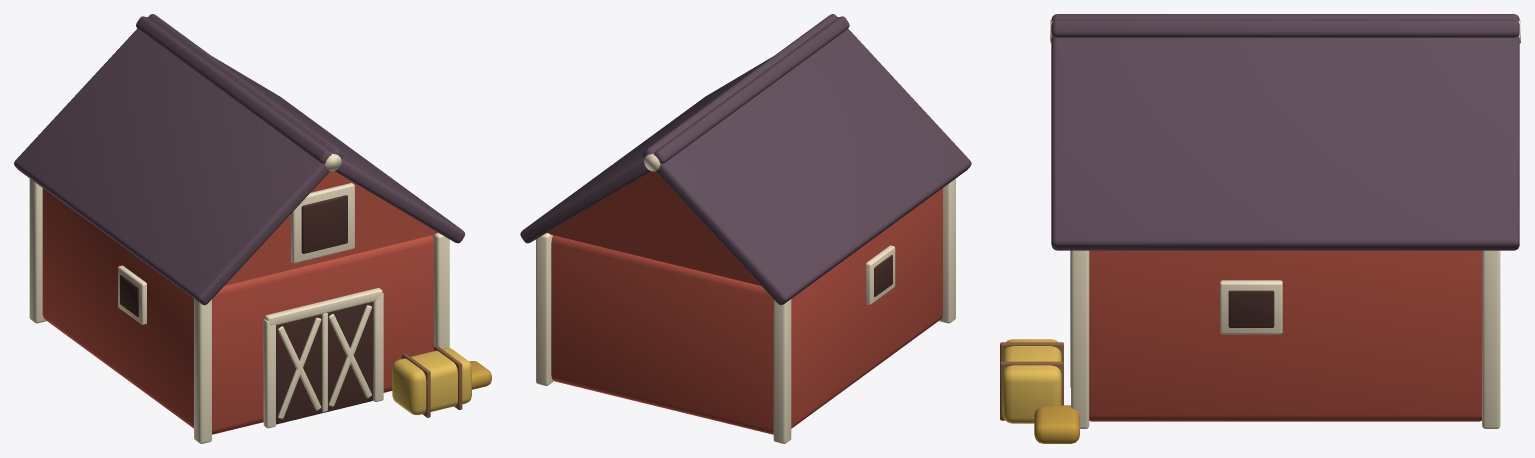
File: barn.glb
3 views of the same model, side by side, from view 1: azimuth 30°, elevation 25°; view 2: azimuth 150°, elevation 25°; view 3: azimuth 270°, elevation 25° (orthographic). The views are drawn at different scales.
Visible parts, largest first — view 1: BARN · roof slab west, BARN · body, BARN · roof slab east, BARN · doorway, BARN · front gable, BARN · hay bale, BARN · corner post -1-1, BARN · loft hatch, BARN · corner post -11, BARN · loft frame, BARN · corner post 1-1, BARN · door frame top (+9 smaller); view 2: BARN · body, BARN · roof slab west, BARN · back gable, BARN · roof slab east, BARN · corner post -11, BARN · corner post 11, BARN · corner post -1-1, BARN · side window -1, BARN · side window pane -1; view 3: BARN · roof slab east, BARN · body, BARN · roof slab west, BARN · hay bale, BARN · corner post 11, BARN · corner post 1-1, BARN · side window 1, BARN · side window pane 1, BARN · loose hay, BARN · bale twine 1.35.
Part boxes in pixels (bbox=[...]): BARN · roof slab west: bbox=[14, 14, 343, 305]; BARN · body: bbox=[42, 188, 433, 434]; BARN · roof slab east: bbox=[136, 16, 465, 243]; BARN · doorway: bbox=[276, 302, 373, 424]; BARN · front gable: bbox=[224, 171, 437, 285]; BARN · hay bale: bbox=[392, 348, 471, 414]; BARN · corner post -1-1: bbox=[194, 299, 211, 443]; BARN · loft hatch: bbox=[301, 195, 347, 253]; BARN · corner post -11: bbox=[29, 179, 46, 323]; BARN · loft frame: bbox=[291, 183, 354, 263]; BARN · corner post 1-1: bbox=[432, 233, 449, 348]; BARN · door frame top: bbox=[265, 288, 382, 325]; BARN · body: bbox=[551, 188, 942, 434]; BARN · roof slab west: bbox=[642, 14, 971, 305]; BARN · back gable: bbox=[547, 171, 760, 285]; BARN · roof slab east: bbox=[520, 16, 849, 243]; BARN · corner post -11: bbox=[773, 299, 791, 443]; BARN · corner post 11: bbox=[536, 233, 553, 385]; BARN · corner post -1-1: bbox=[939, 178, 955, 323]; BARN · side window -1: bbox=[866, 245, 895, 304]; BARN · side window pane -1: bbox=[874, 255, 892, 296]; BARN · roof slab east: bbox=[1051, 14, 1519, 250]; BARN · body: bbox=[1089, 250, 1481, 421]; BARN · roof slab west: bbox=[1051, 19, 1519, 37]; BARN · hay bale: bbox=[1002, 339, 1061, 423]; BARN · corner post 11: bbox=[1482, 250, 1500, 428]; BARN · corner post 1-1: bbox=[1071, 250, 1089, 428]; BARN · side window 1: bbox=[1220, 280, 1282, 334]; BARN · side window pane 1: bbox=[1228, 290, 1274, 327]; BARN · loose hay: bbox=[1034, 405, 1079, 443]; BARN · bale twine 1.35: bbox=[1000, 361, 1063, 420].
Size of the model in its own units: 3.64 by 3.26 by 4.56.
